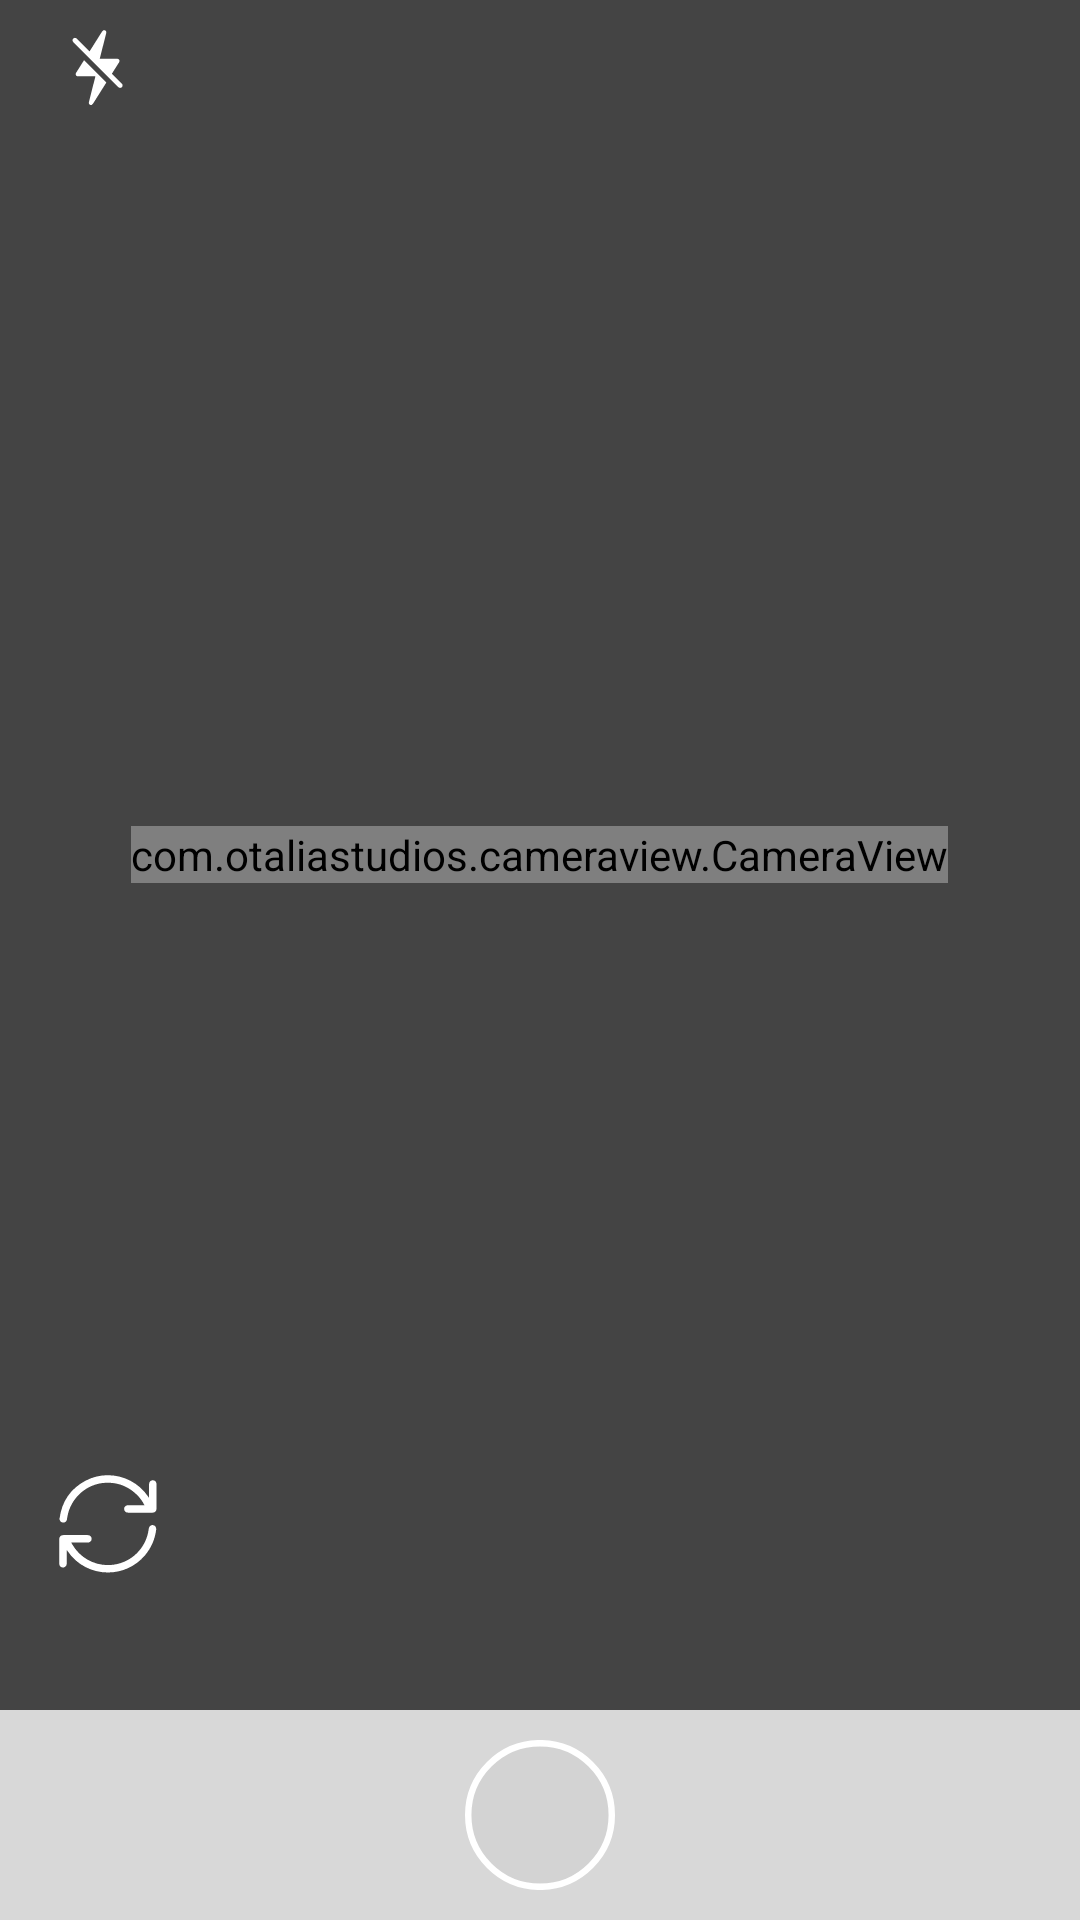

Locate icon controls on the screen. Image size 1080w x 1920h, boxes as region(x1, y1, x2, y2).
camerarotation: region(59, 1475, 157, 1573)
capture: region(465, 1740, 615, 1890)
flashoff: region(72, 30, 123, 105)
